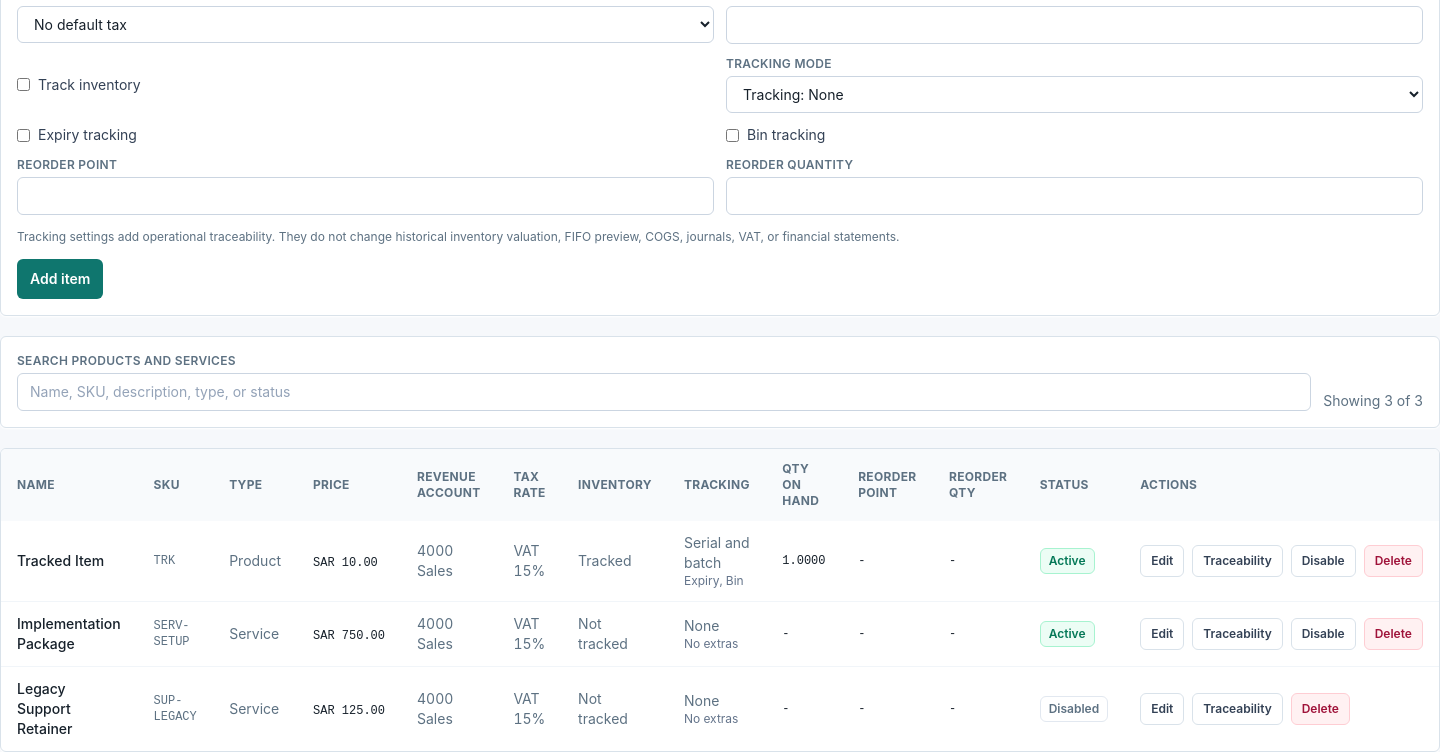
ItemsPage traceability settings › shows an empty filtered state while preserving the loaded catalog
(page scrolled)
Expected: the text "Tracked Item" is shown, x1=1 y1=521 x2=138 y2=602
In the search field labelled "Search products and services": (664, 392) x1=17 y1=373 x2=1311 y2=411, type "does-not-exist"
(page scrolled)
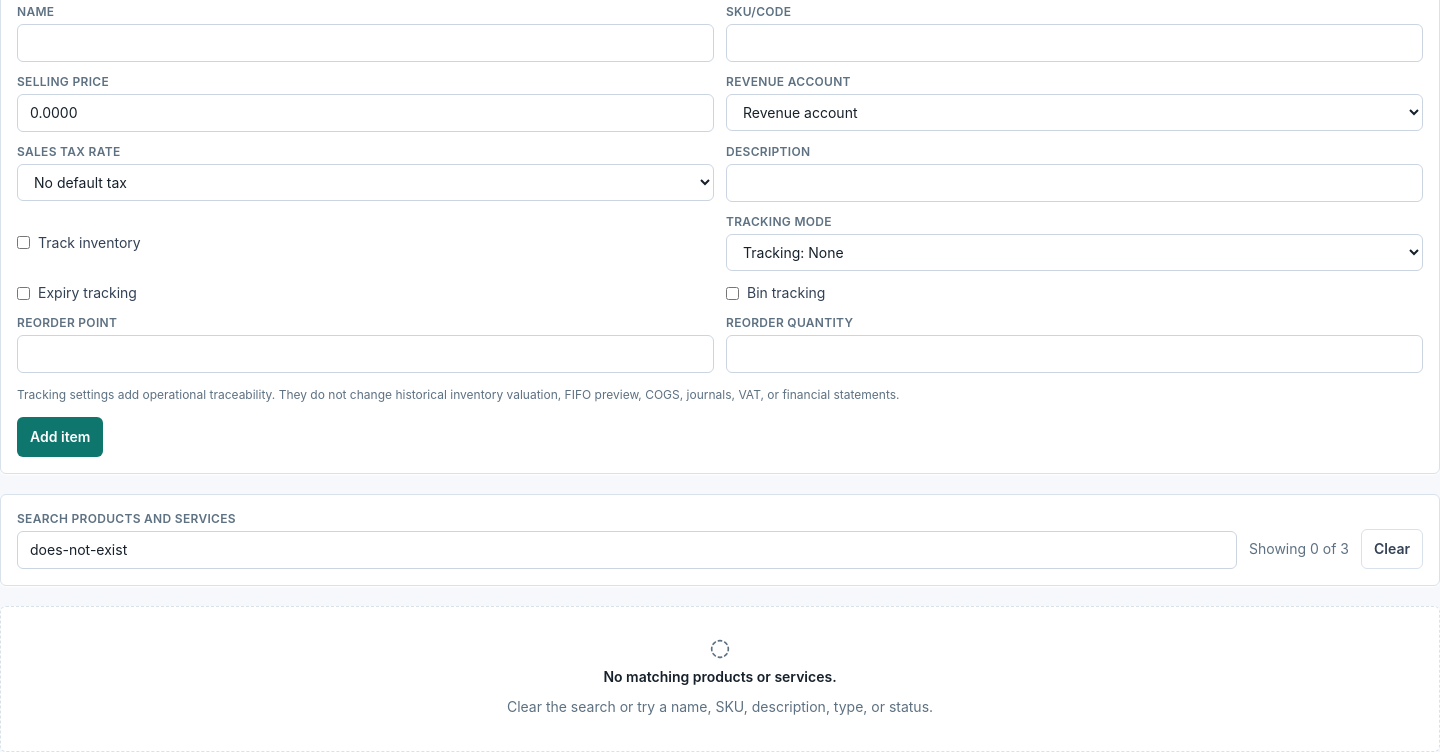
Expected: the heading "No matching products or services." is shown, x1=603 y1=668 x2=837 y2=685
Expected: the text "Clear the search or try a name, SKU, description, type, or status." is shown, x1=507 y1=698 x2=933 y2=715
Expected: the text "Tracked Item" is gone
